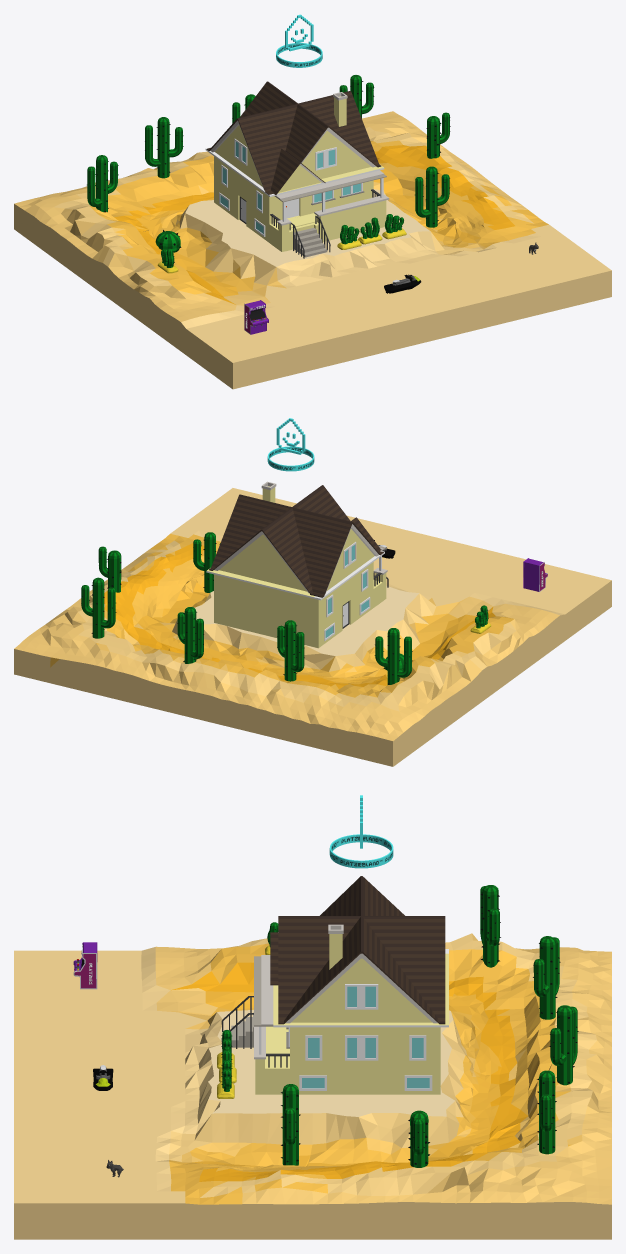
3 views of the same model, one above another, from view 1: azimuth 30°, elevation 25°; view 2: azimuth 150°, elevation 25°; view 3: azimuth 270°, elevation 25° (orthographic). The views are drawn at different scales.
Visible parts, largest first — view 1: Cube.001, Cube.1555, Cylinder.044, Cylinder.037, Cylinder.045, TYPE_PREMIUM, Cylinder.038, OBJRANDOM_ARCADE, Cylinder.042; view 2: Cube.001, Cube.1555, Cylinder.042, Cylinder.045, Cylinder.044, Cylinder.043, TYPE_PREMIUM, Cylinder.037, Cylinder.038, OBJRANDOM_ARCADE; view 3: Cube.001, Cube.1555, Cylinder.044, Cylinder.043, Cylinder.045, Cylinder.042, Cylinder.037, TYPE_PREMIUM, Cylinder.038, OBJRANDOM_ARCADE.
Part boxes in pixels (x1,y1,x2,y2): Cube.001: (14, 111, 611, 389); Cube.1555: (205, 81, 389, 258); Cylinder.044: (145, 117, 183, 178); Cylinder.037: (415, 166, 449, 227); Cylinder.045: (87, 155, 118, 212); TYPE_PREMIUM: (276, 14, 322, 67); Cylinder.038: (426, 112, 450, 158); OBJRANDOM_ARCADE: (244, 300, 268, 334); Cylinder.042: (339, 75, 374, 118); Cube.001: (14, 488, 611, 766); Cube.1555: (206, 481, 388, 648); Cylinder.042: (81, 577, 116, 638); Cylinder.045: (374, 628, 412, 684); Cylinder.044: (277, 620, 304, 681); Cylinder.043: (177, 607, 203, 663); TYPE_PREMIUM: (267, 418, 314, 471); Cylinder.037: (193, 532, 220, 592); Cylinder.038: (98, 546, 121, 592); OBJRANDOM_ARCADE: (523, 558, 547, 591); Cube.001: (14, 933, 611, 1239); Cube.1555: (221, 876, 448, 1094); Cylinder.044: (533, 936, 560, 1019); Cylinder.043: (549, 1005, 578, 1085); Cylinder.045: (480, 885, 500, 967); Cylinder.042: (537, 1070, 556, 1154); Cylinder.037: (281, 1084, 300, 1165); TYPE_PREMIUM: (329, 795, 393, 868); Cylinder.038: (408, 1110, 429, 1167); OBJRANDOM_ARCADE: (73, 942, 97, 989).
Bounding box in the file's own units: 4002 × 2445 × 4001.
Materials: 37 (3 with a texture image).
